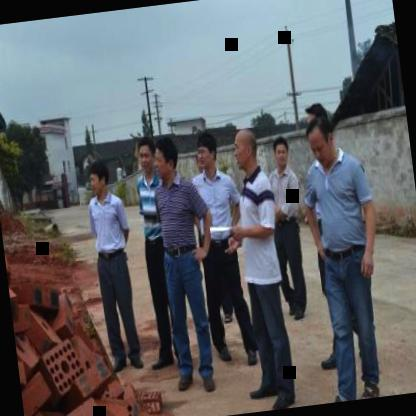head: (302, 115, 338, 168), (150, 134, 186, 184), (229, 121, 262, 175), (83, 153, 114, 200), (193, 127, 220, 176), (132, 132, 157, 178), (300, 98, 326, 134), (269, 130, 291, 171)
